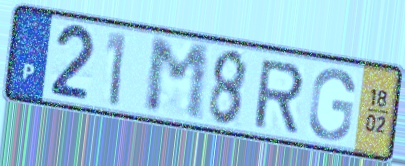1: (104, 31, 130, 110)
2: (48, 21, 97, 108)
8: (206, 47, 250, 128)
G: (306, 67, 358, 143)
M: (144, 36, 212, 124)
R: (251, 58, 307, 135)
